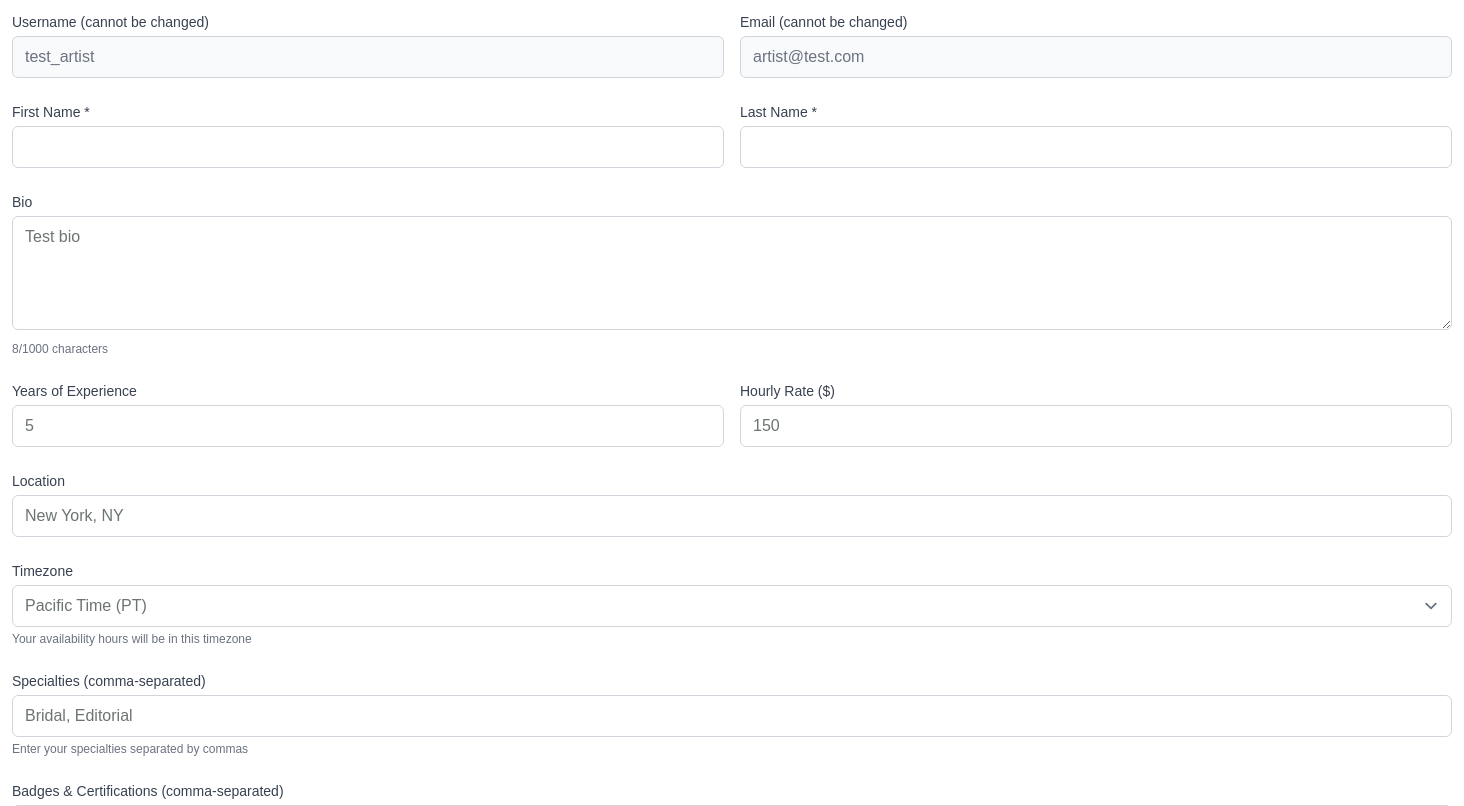
Test: ProfileEditForm › shows character count for bio
The width and height of the screenshot is (1464, 806).
Replace the text in the text box labelled "Bio" with "New bio text" at coordinates (732, 273), box [12,216,1452,330]
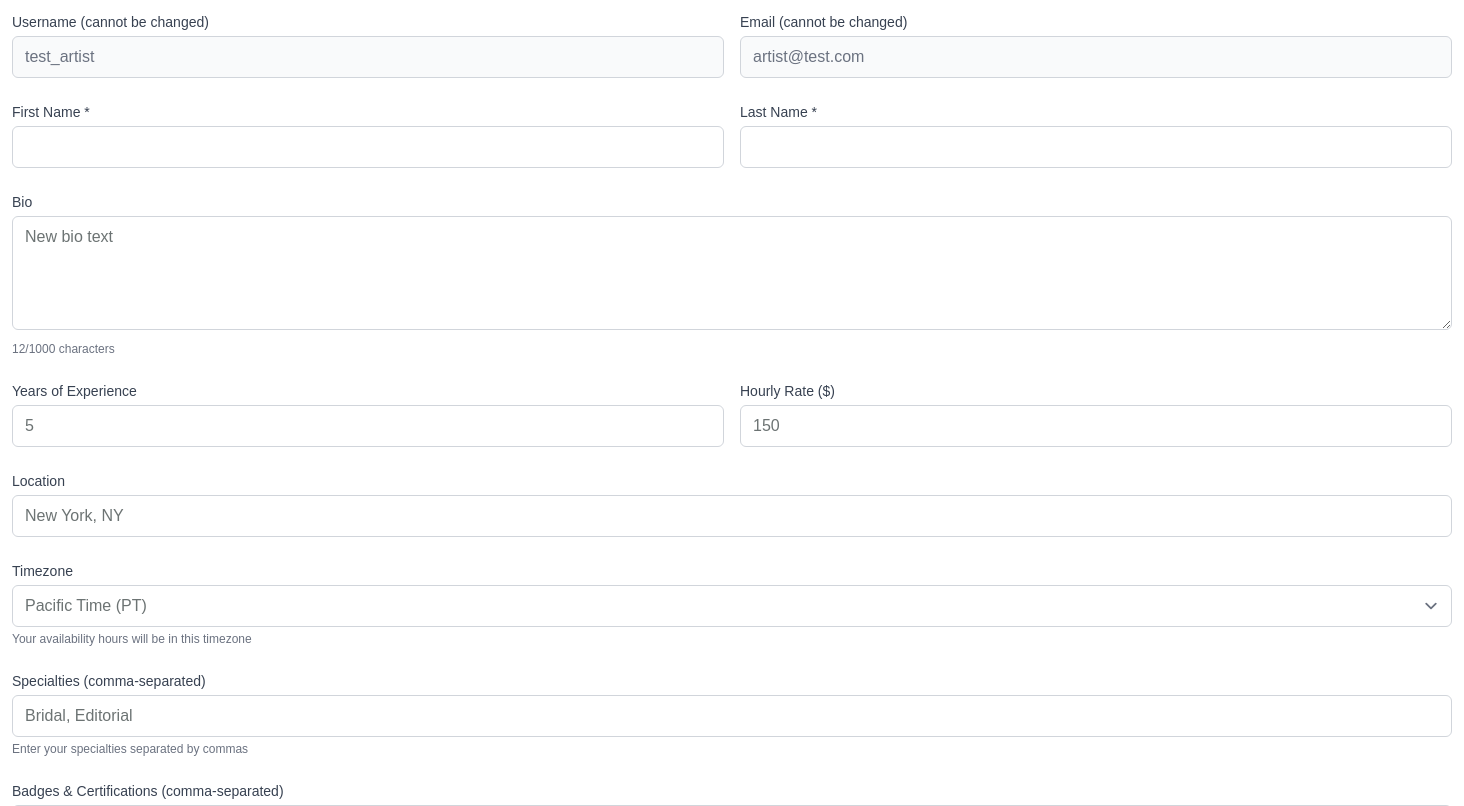
Now the text "12/1000 characters" is shown, box [12,342,115,356]
